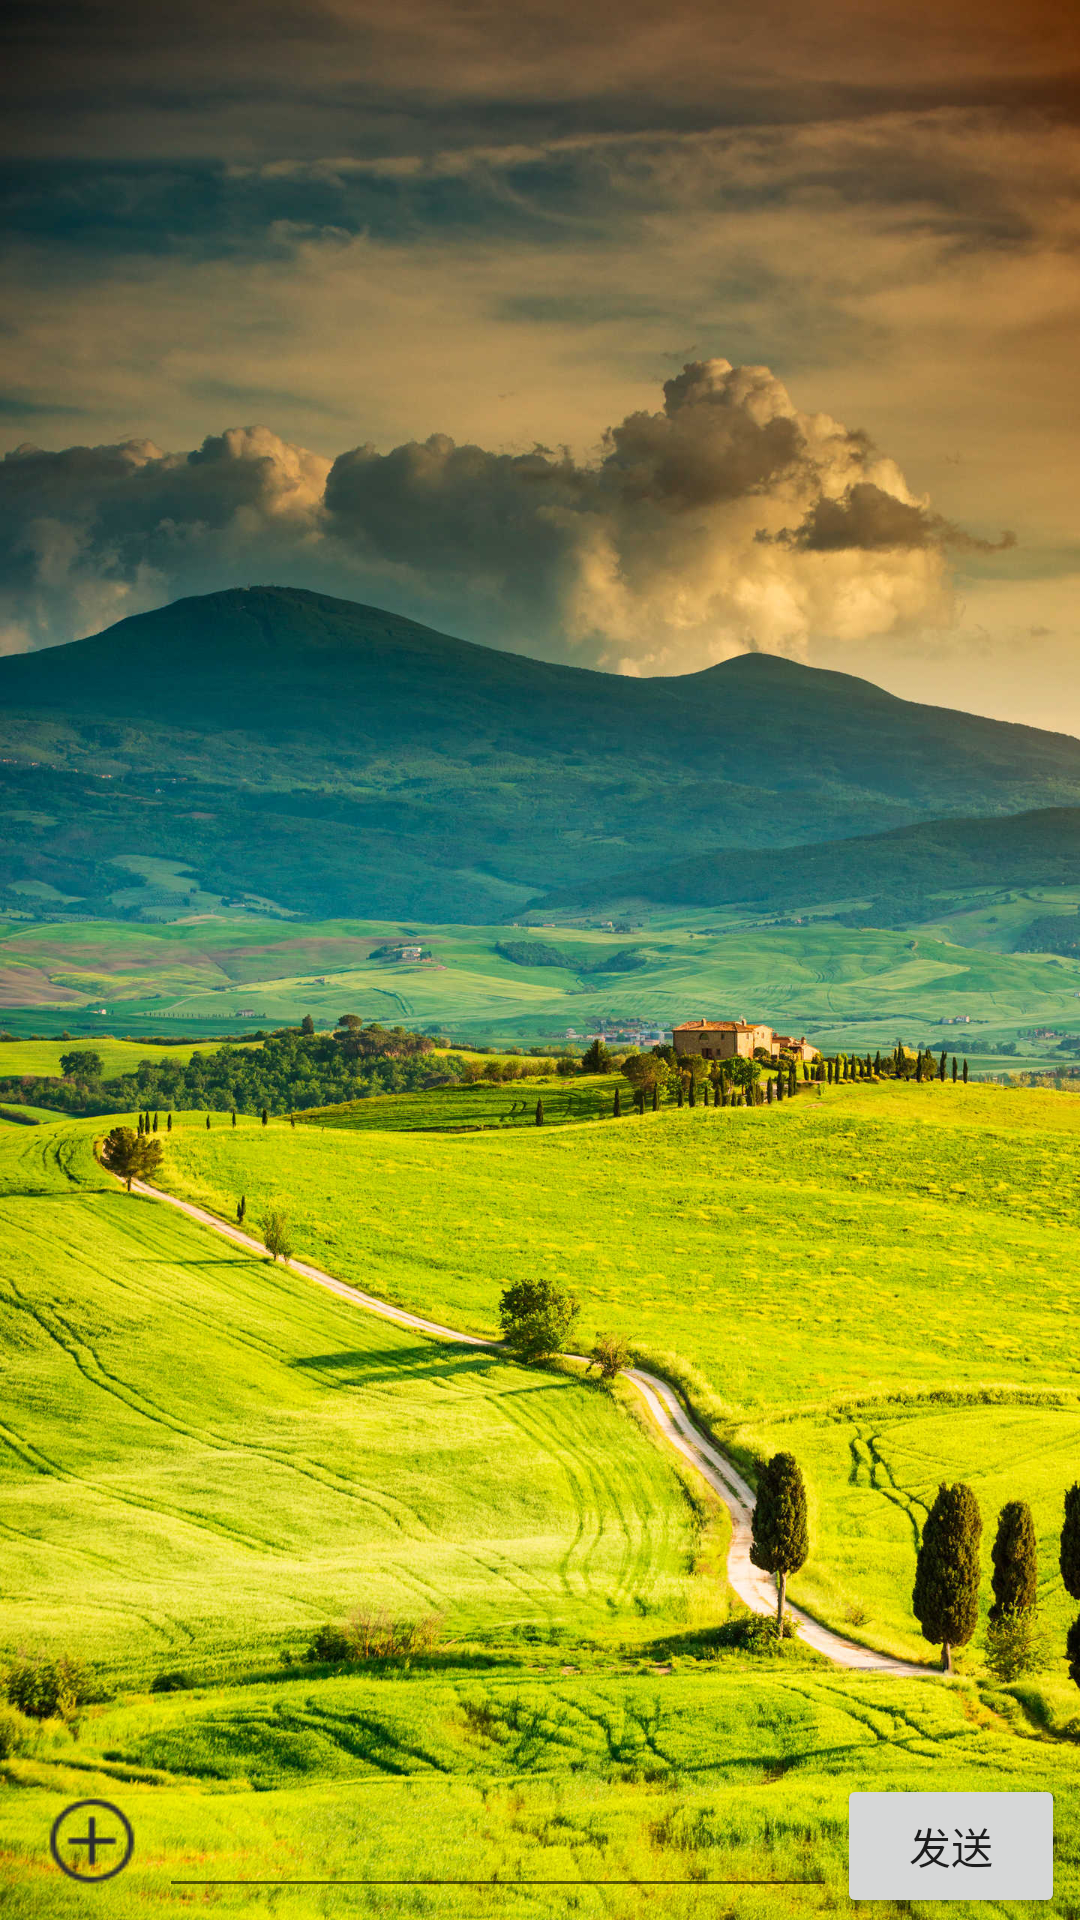

Icons on this 1080w x 1920h Android screen, each with the point to tap as point (x, y):
plus: point (91, 1840)
